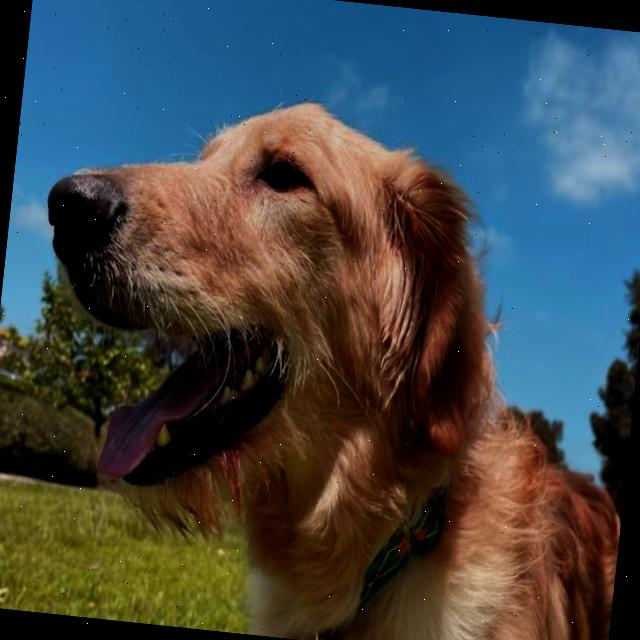golden_retriever_dog: (4, 49, 534, 594)
